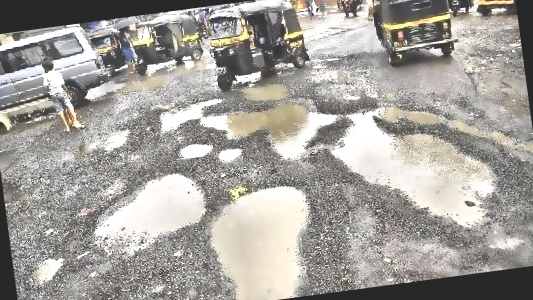pothole: (326, 84, 509, 244), (206, 179, 324, 300), (193, 92, 346, 171), (86, 167, 213, 257), (156, 94, 227, 132), (239, 78, 294, 106), (26, 253, 67, 285), (176, 138, 214, 160), (217, 145, 246, 161)
